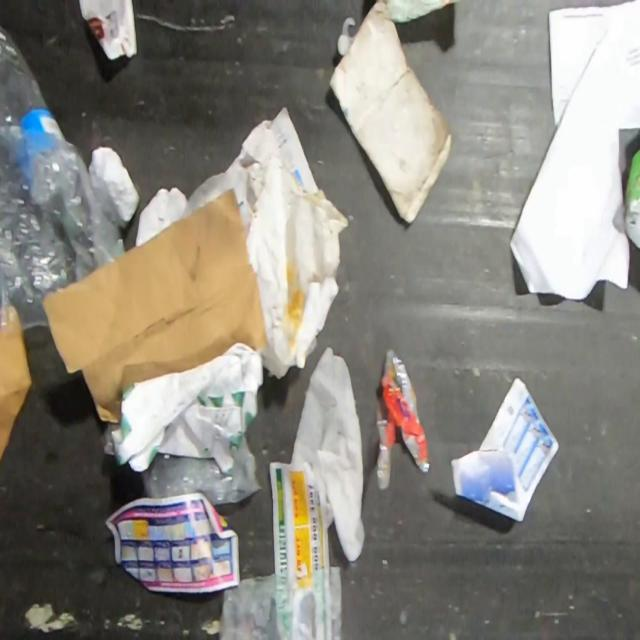cardboard: (43, 188, 269, 425), (328, 0, 456, 226), (0, 331, 33, 464), (622, 145, 640, 250)
rigid_plastic: (0, 25, 66, 140)
soft_plastic: (0, 102, 129, 334), (100, 343, 264, 475), (218, 564, 344, 640), (140, 432, 263, 506), (374, 346, 431, 492), (182, 155, 253, 242), (136, 186, 188, 245)
